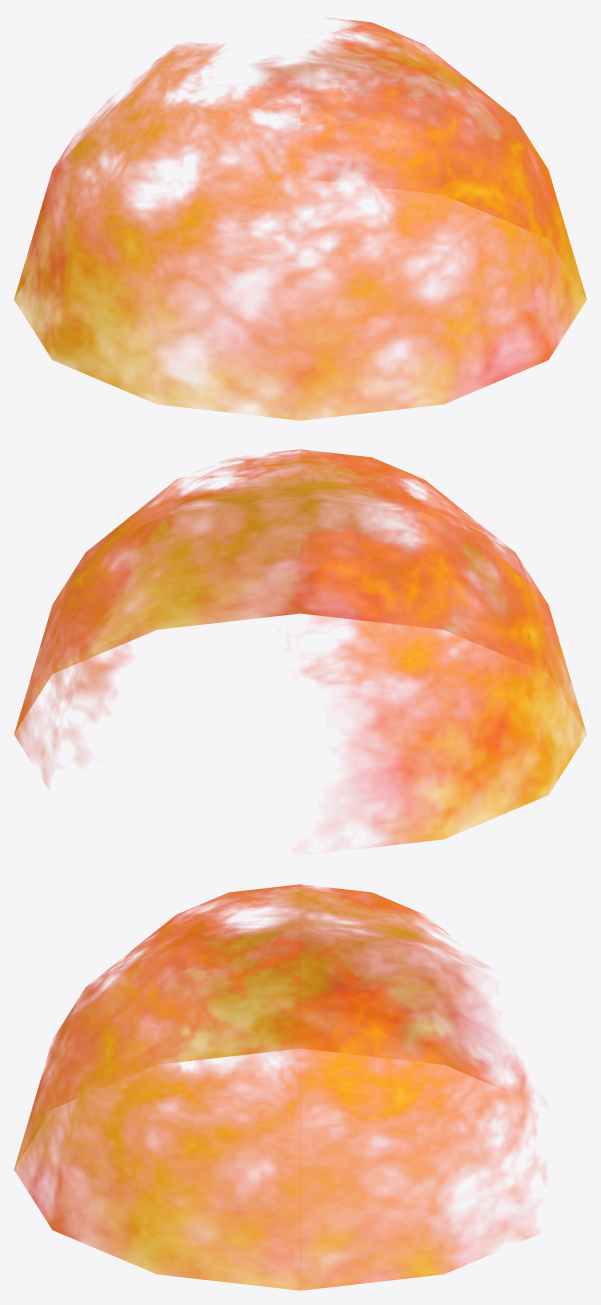
The model's file is dk_pillarof_fire_sphere-29380a9d.glb.
The picture shows the model from 3 angles, top to bottom: view 1: azimuth 30°, elevation 25°; view 2: azimuth 150°, elevation 25°; view 3: azimuth 270°, elevation 25°; orthographic projection.
Parts seen in each view (by area): view 1: dk_pillarof_fire_sphere; view 2: dk_pillarof_fire_sphere; view 3: dk_pillarof_fire_sphere.
Boxes of the visible parts, x1,y1,x2,y2 form: dk_pillarof_fire_sphere: (14, 18, 586, 420); dk_pillarof_fire_sphere: (14, 449, 586, 846); dk_pillarof_fire_sphere: (14, 884, 536, 1290).
Bounding box in the file's own units: 4 × 2 × 4.
Materials: 1 (1 with a texture image).
